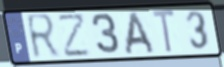3: (90, 12, 122, 56), (184, 9, 210, 52)
A: (124, 10, 158, 56)
R: (24, 12, 63, 62)
T: (150, 8, 177, 56)
Z: (56, 12, 93, 59)
